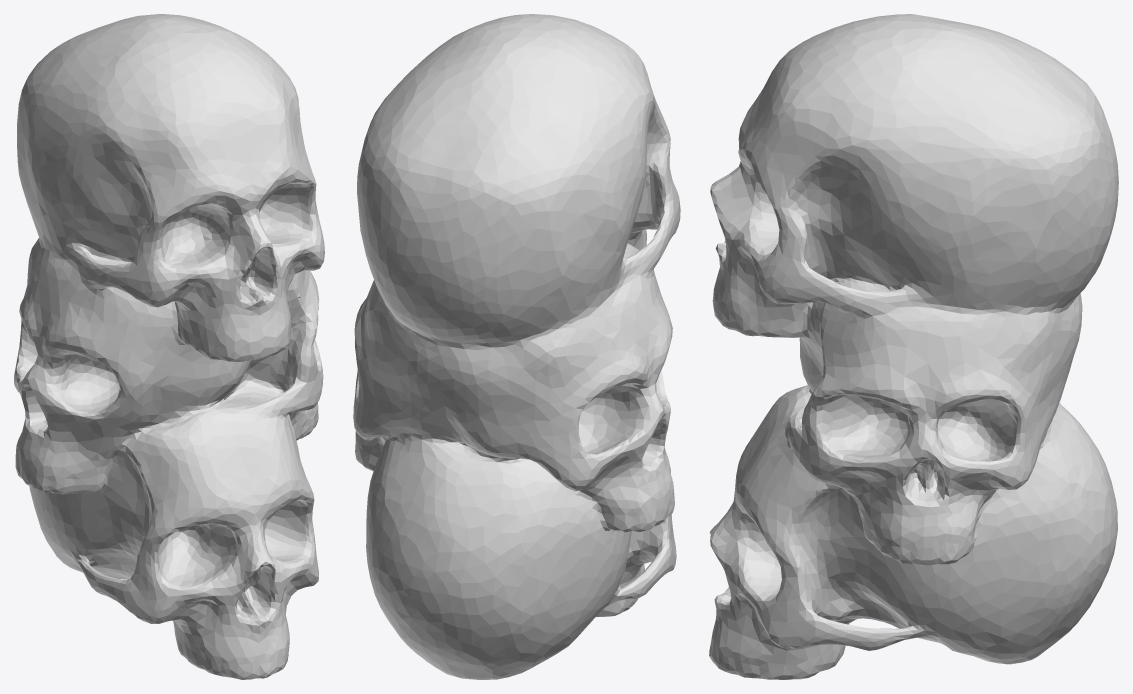
Rendered from skull02.glb.
3 views of the same model, side by side, from view 1: azimuth 30°, elevation 25°; view 2: azimuth 150°, elevation 25°; view 3: azimuth 270°, elevation 25° (orthographic). The views are drawn at different scales.
Visible parts, largest first — view 1: Low; view 2: Low; view 3: Low.
Part boxes in pixels (x1,y1,x2,y2): Low: (14,14,324,679); Low: (353,14,680,679); Low: (709,14,1118,679).
Bounding box in the file's own units: 1.02 × 1.99 × 1.17.
Materials: 1 (1 with a texture image).
